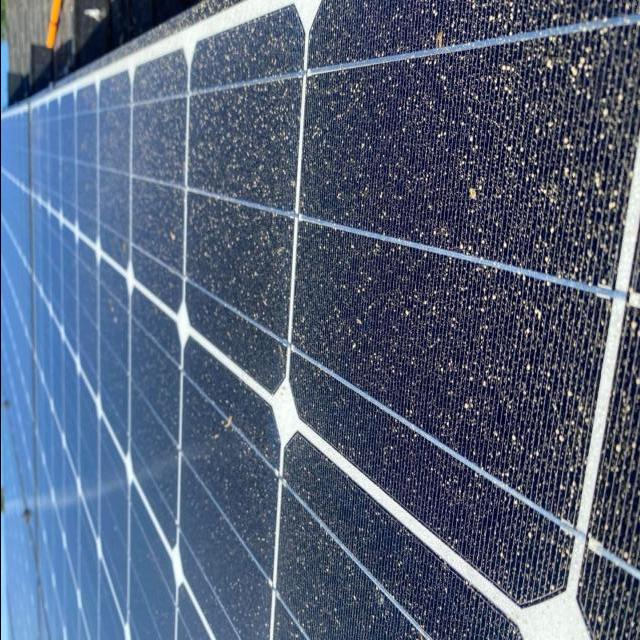soiled: (3, 11, 640, 639)
